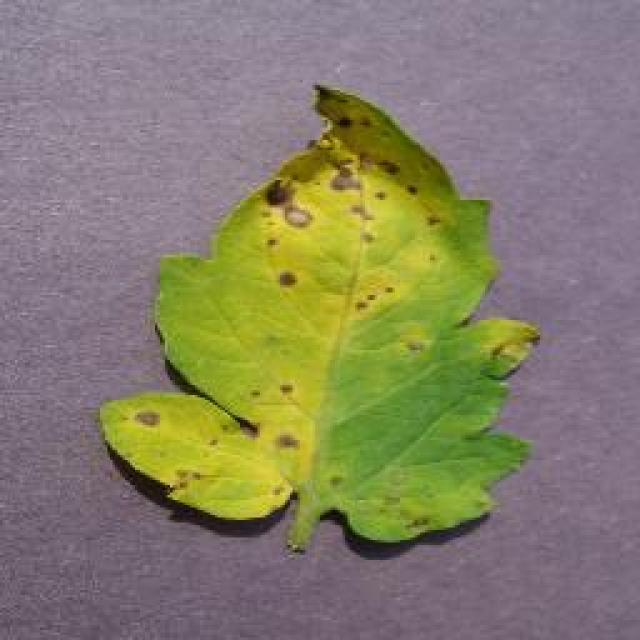Tomato___Septoria_leaf_spot: (100, 85, 538, 550)
